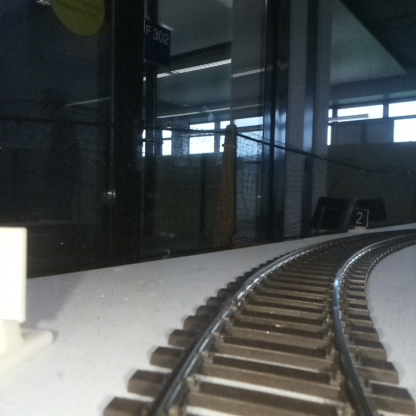black-stop-2: (353, 209, 366, 232)
